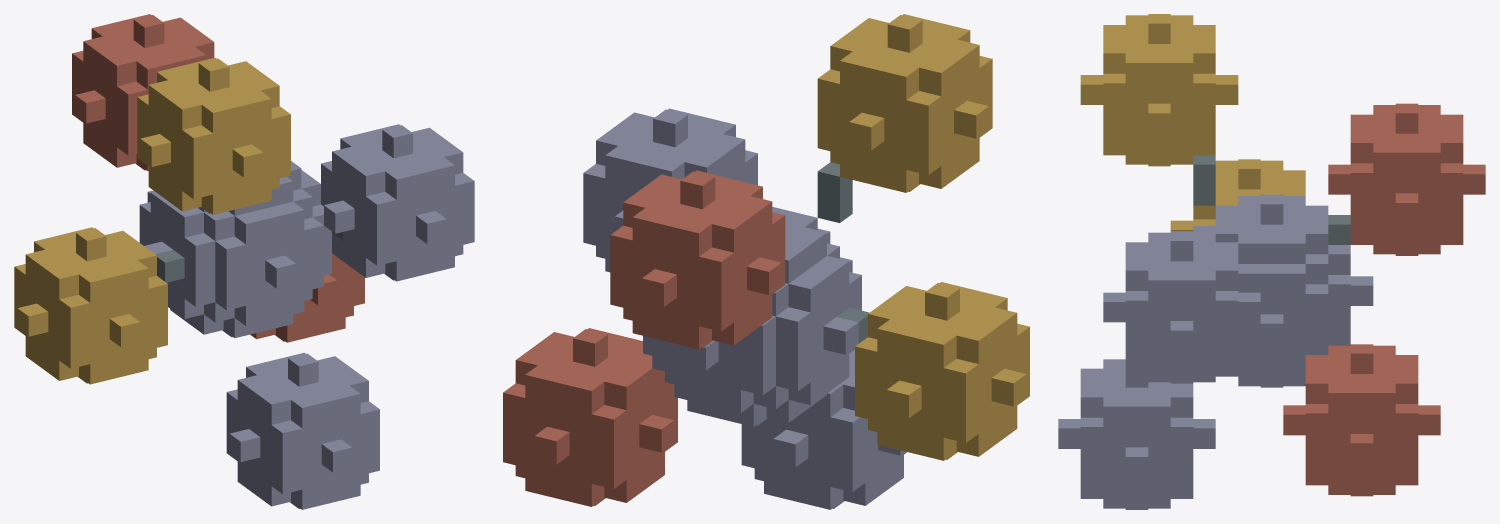
The model's file is mathematics-13.glb.
3 renders of one model, left to right at view 1: azimuth 30°, elevation 25°; view 2: azimuth 150°, elevation 25°; view 3: azimuth 270°, elevation 25°, orthographic. The views are drawn at different scales.
Parts seen in each view (by area): view 1: Mobius model; view 2: Mobius model; view 3: Mobius model.
Boxes of the visible parts, bbox=[...] form: Mobius model: bbox=[14, 14, 474, 509]; Mobius model: bbox=[503, 14, 1029, 509]; Mobius model: bbox=[1058, 14, 1485, 509].
Size of the model in its own units: 1.68 by 1.76 by 1.52.
